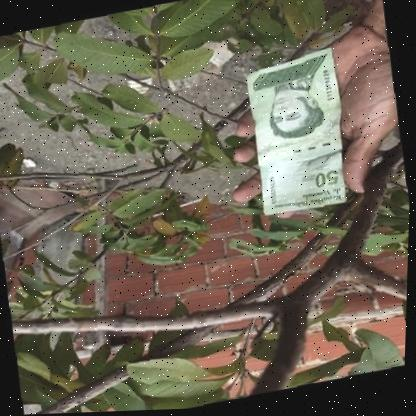fifty-front-vef: (242, 49, 355, 219)
